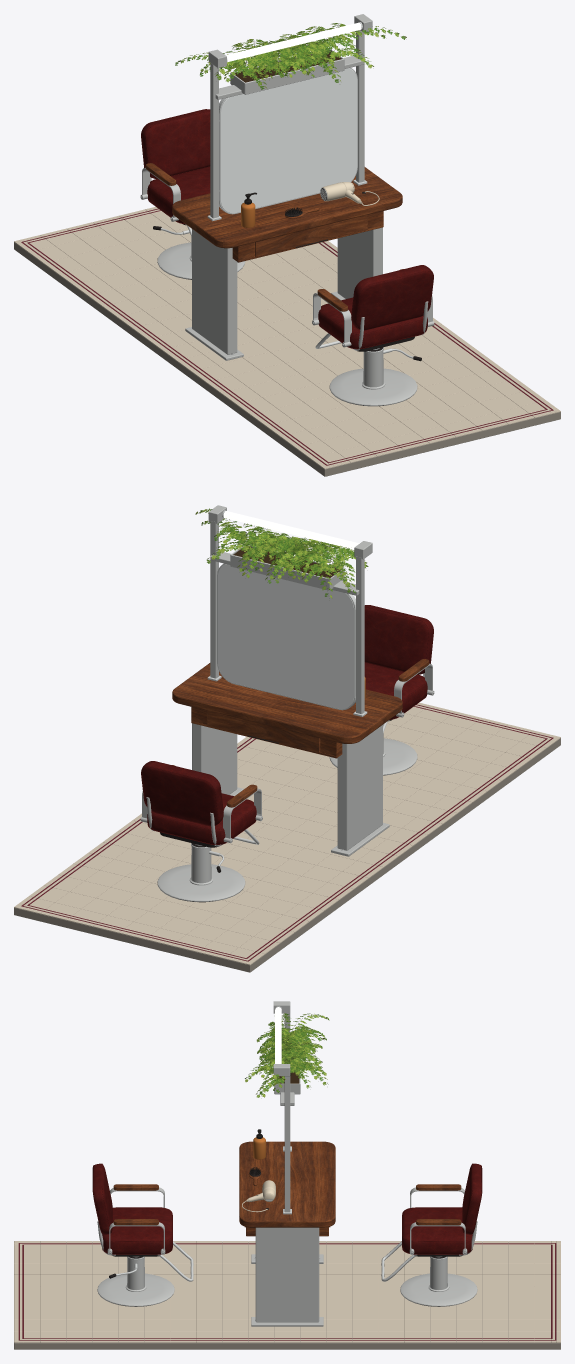
3 renders of one model, top to bottom at view 1: azimuth 30°, elevation 25°; view 2: azimuth 150°, elevation 25°; view 3: azimuth 270°, elevation 25°, orthographic. The views are drawn at different scales.
Visible parts, largest first — view 1: keep_13, keep_07, mirror, a, b, keep_09, keep_12, keep_11, keep_05, tube_light, keep_04; view 2: keep_13, keep_07, mirror, a, b, keep_09, keep_12, keep_11, keep_05, tube_light; view 3: keep_13, keep_07, b, a, keep_12, keep_09, keep_11, keep_05, keep_06.
Part boxes in pixels (x1,y1,x2,y2): keep_13: [14, 206, 560, 469]; keep_07: [140, 14, 434, 406]; mirror: [220, 68, 356, 213]; a: [141, 109, 433, 349]; b: [145, 163, 403, 311]; keep_09: [175, 23, 406, 89]; keep_12: [14, 242, 560, 476]; keep_11: [21, 208, 553, 465]; keep_05: [140, 22, 413, 358]; tube_light: [225, 22, 361, 62]; keep_04: [322, 182, 379, 205]; keep_13: [14, 702, 560, 964]; keep_07: [140, 505, 434, 902]; mirror: [218, 564, 354, 709]; a: [141, 605, 433, 844]; b: [172, 659, 429, 807]; keep_09: [195, 508, 368, 598]; keep_12: [14, 738, 560, 972]; keep_11: [21, 704, 553, 961]; keep_05: [195, 510, 434, 866]; tube_light: [223, 511, 359, 549]; keep_13: [14, 1241, 560, 1342]; keep_07: [97, 1001, 477, 1326]; b: [113, 1141, 461, 1236]; a: [92, 1163, 482, 1254]; keep_12: [14, 1242, 560, 1349]; keep_09: [245, 1013, 329, 1097]; keep_11: [18, 1243, 556, 1340]; keep_05: [109, 1006, 465, 1320]; keep_06: [109, 1169, 465, 1306].
Bounding box in the file's own units: 1.8 × 2.19 × 4.1.
Materials: 17 (3 with a texture image).
